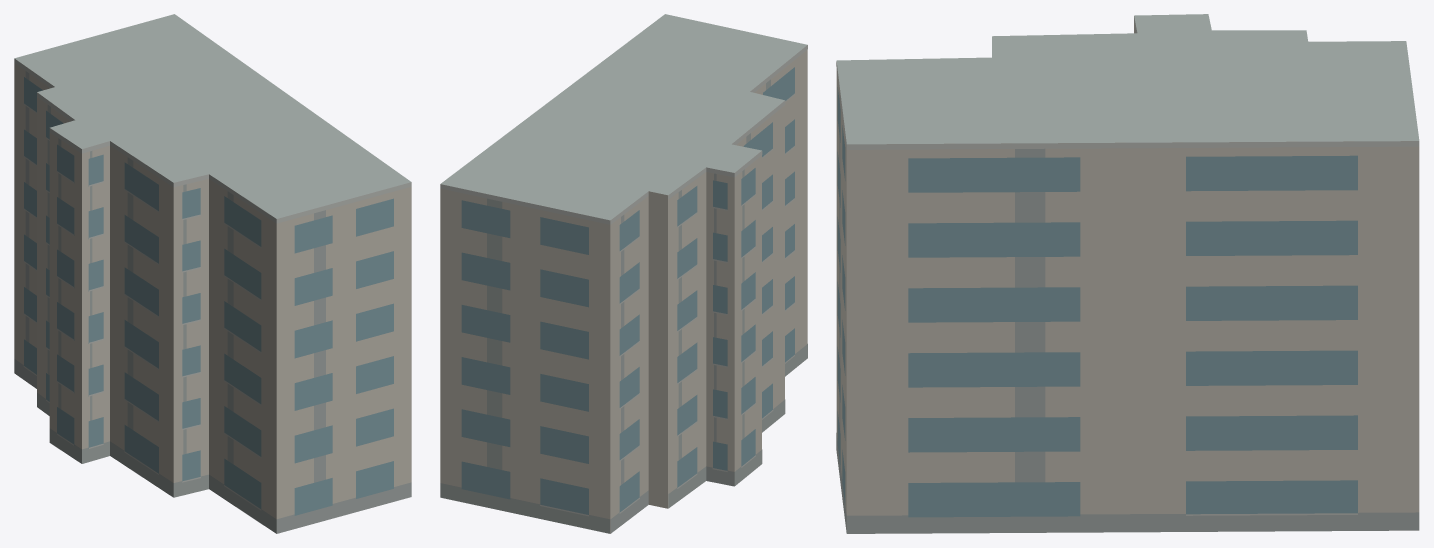
Rendered from survey-upis-32917527.glb.
The picture shows the model from 3 angles, left to right: view 1: azimuth 30°, elevation 25°; view 2: azimuth 150°, elevation 25°; view 3: azimuth 270°, elevation 25°; orthographic projection. The views are drawn at different scales.
Parts seen in each view (by area): view 1: survey-upis-32917527.tmp; view 2: survey-upis-32917527.tmp; view 3: survey-upis-32917527.tmp.
Boxes of the visible parts, x1,y1,x2,y2 form: survey-upis-32917527.tmp: (14,14,411,533); survey-upis-32917527.tmp: (440,14,807,533); survey-upis-32917527.tmp: (836,14,1419,533).
Size of the model in its own units: 12.16 by 16.93 by 22.97.
